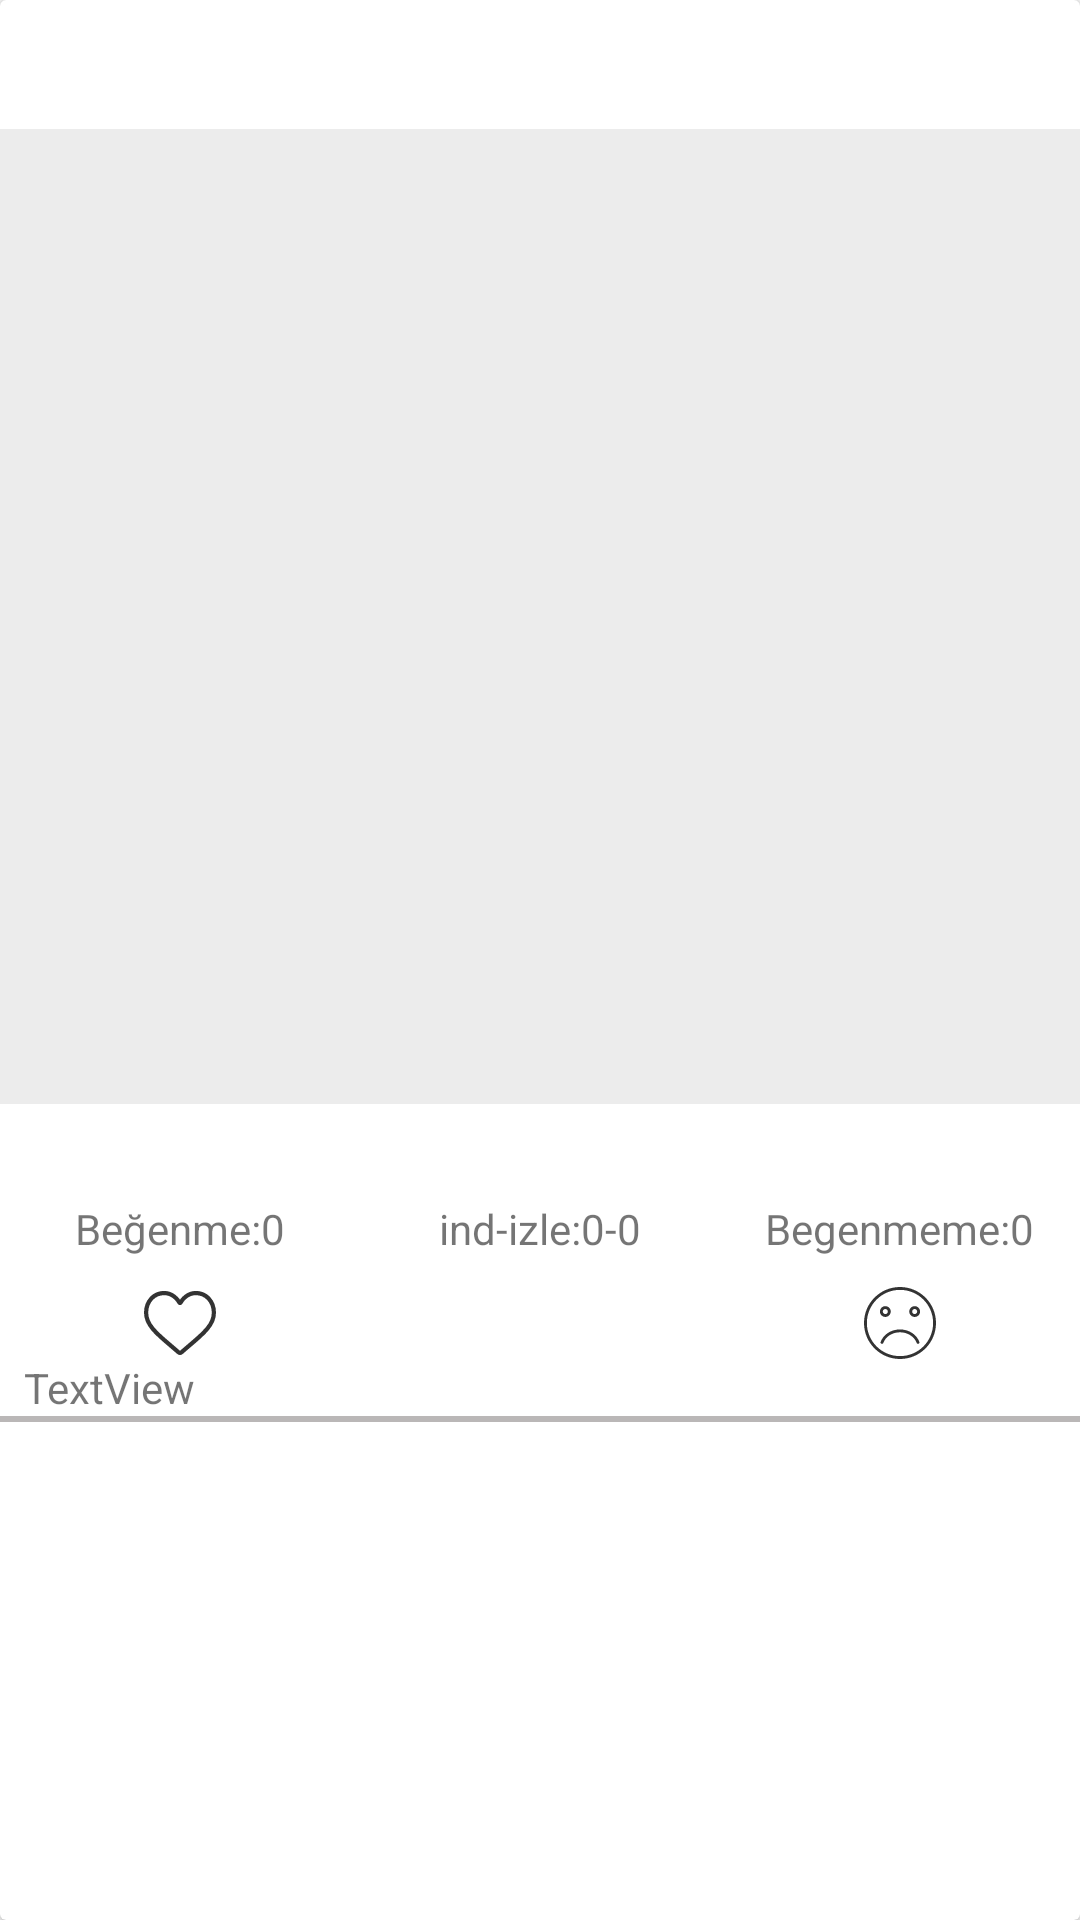

Icons on this 1080px×1920px Android screen, each with its box as (x1, y1, x2, y2):
like: (144, 1291, 216, 1355)
unlike: (864, 1287, 936, 1359)
